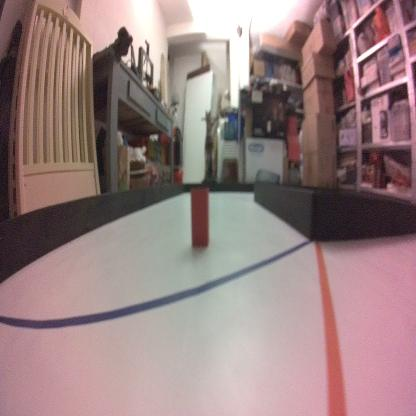red: (190, 186, 208, 248)
